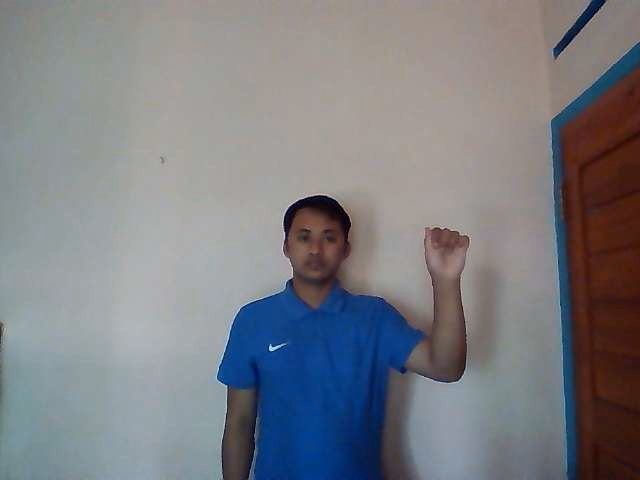A: (423, 224, 471, 278)
